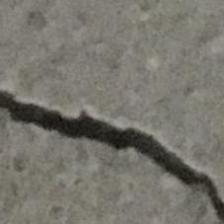Crack: (0, 53, 224, 224)
